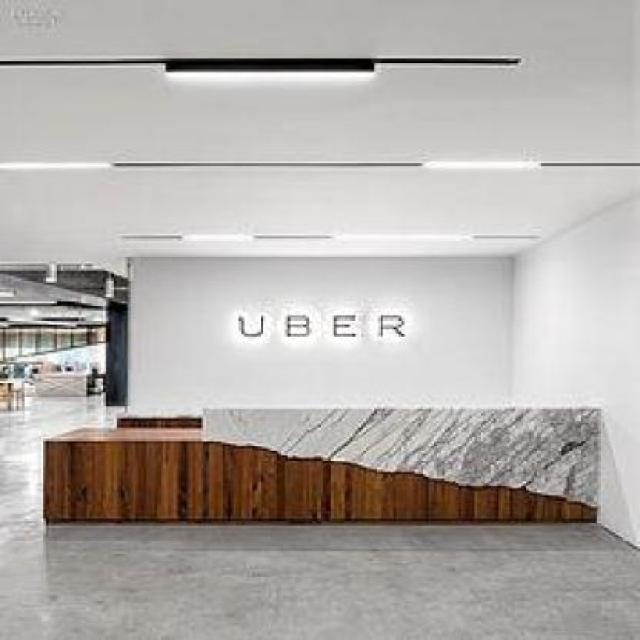frontdesk: (26, 394, 606, 541)
